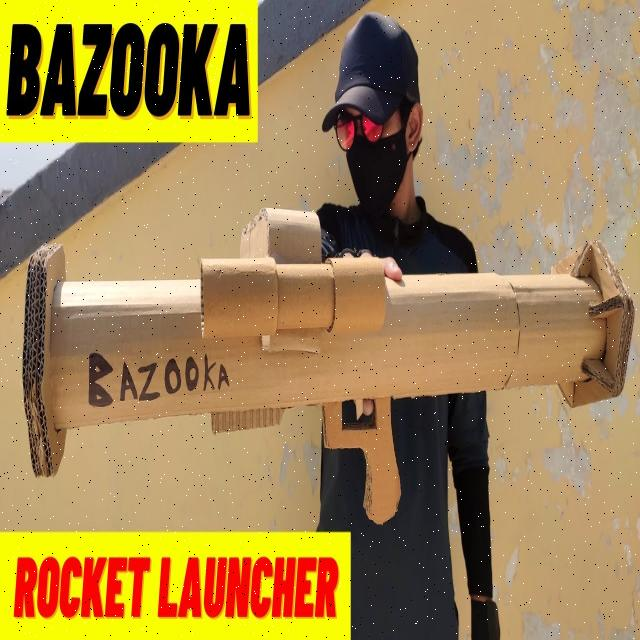bazooka: (14, 201, 638, 525)
